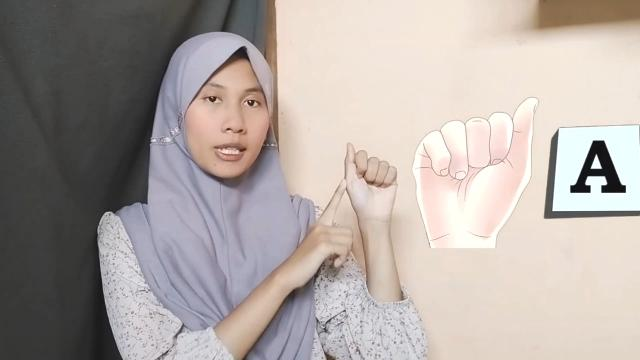A: (346, 139, 400, 230)
